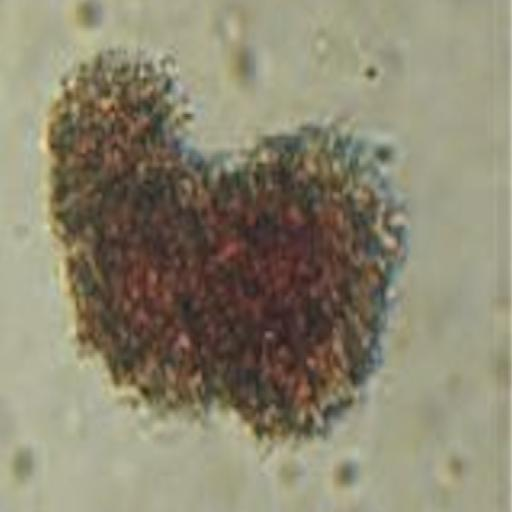BFU-E: (45, 48, 406, 437)
